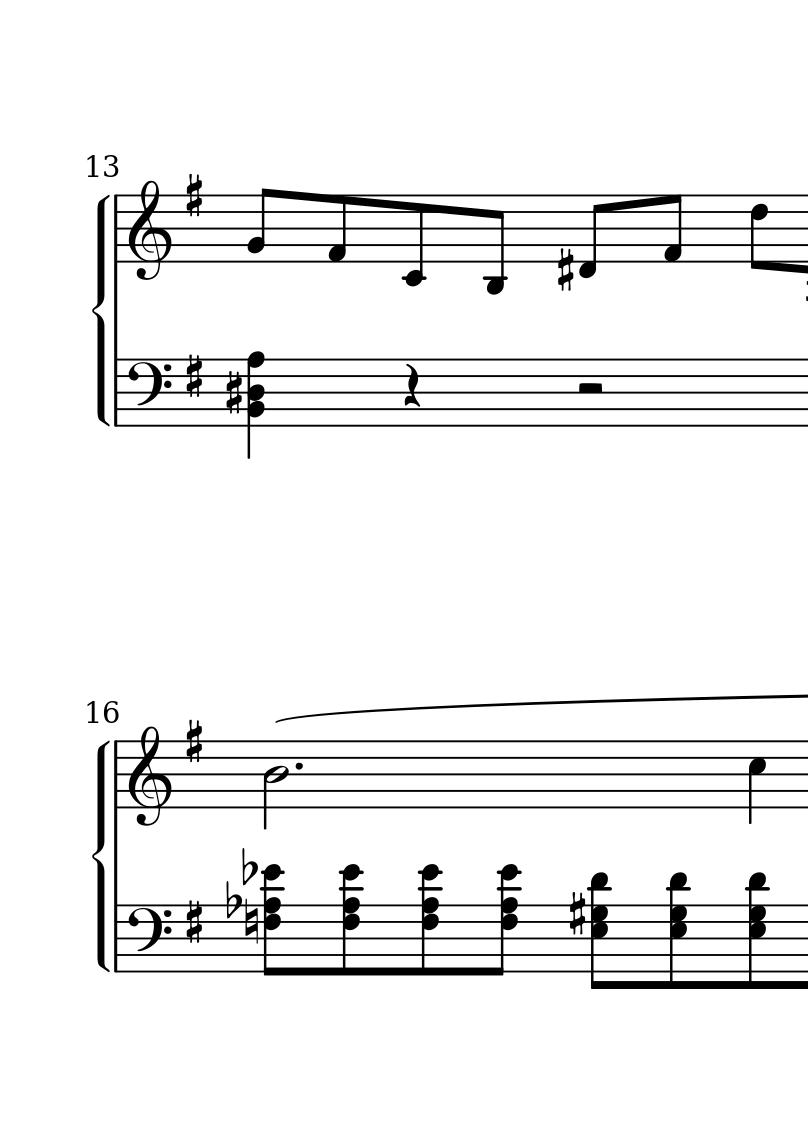1: (86, 696, 100, 726), (86, 151, 99, 182)
2_4: (262, 738, 292, 834)
3: (102, 150, 120, 180)
4_5: (748, 738, 767, 826)
4_th: (244, 349, 265, 463)
6: (102, 697, 121, 727)
8_-1: (580, 192, 608, 279)
8_-2: (402, 193, 427, 289)
8_-3: (484, 193, 508, 295)
8_1: (660, 194, 685, 267), (325, 193, 350, 266)
8_2: (246, 186, 277, 264)
8_4th: (741, 865, 773, 991), (664, 866, 692, 993)
8_6: (746, 192, 770, 274)
8_th: (335, 861, 369, 976), (490, 862, 523, 978), (416, 863, 446, 979), (586, 868, 614, 992), (258, 862, 286, 979)
Brace: (90, 737, 112, 975), (91, 193, 112, 431)
Fclef: (126, 902, 174, 973), (125, 358, 173, 428)
Flat: (238, 847, 258, 886), (225, 879, 242, 921)
Gclef: (124, 723, 176, 827), (126, 179, 176, 280)
Natural: (243, 898, 260, 945)
Rests2: (571, 380, 608, 402)
Rests4: (400, 362, 421, 410)
Sharp: (183, 172, 208, 220), (553, 243, 575, 296), (183, 348, 205, 400), (183, 715, 204, 768), (185, 897, 205, 950), (568, 888, 588, 939), (222, 369, 243, 417)
Single_barline: (109, 358, 127, 426), (110, 739, 127, 808), (110, 194, 127, 262), (110, 905, 125, 973)
dot: (292, 759, 305, 773)
